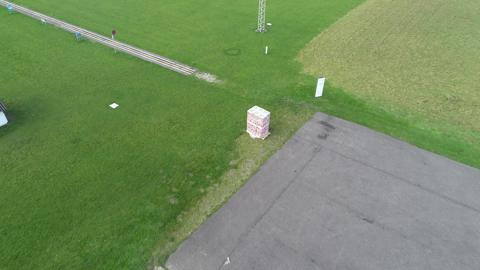RockwoolPallet: (246, 105, 271, 139)
